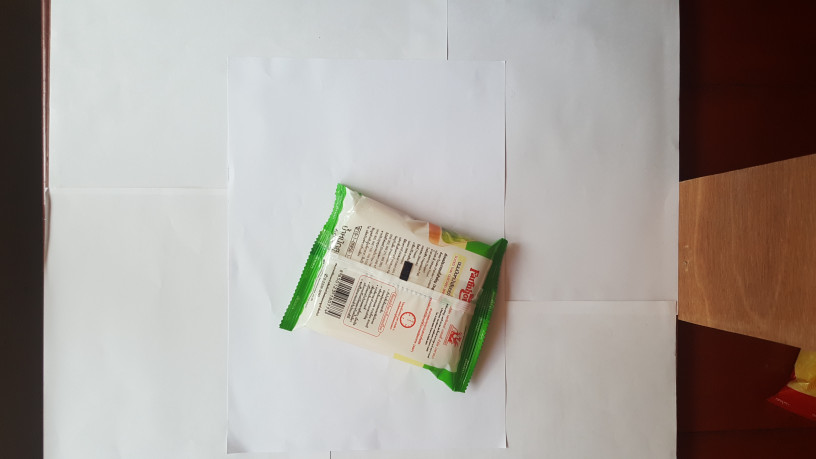farmhouse-bread-pandan: (276, 176, 511, 395)
